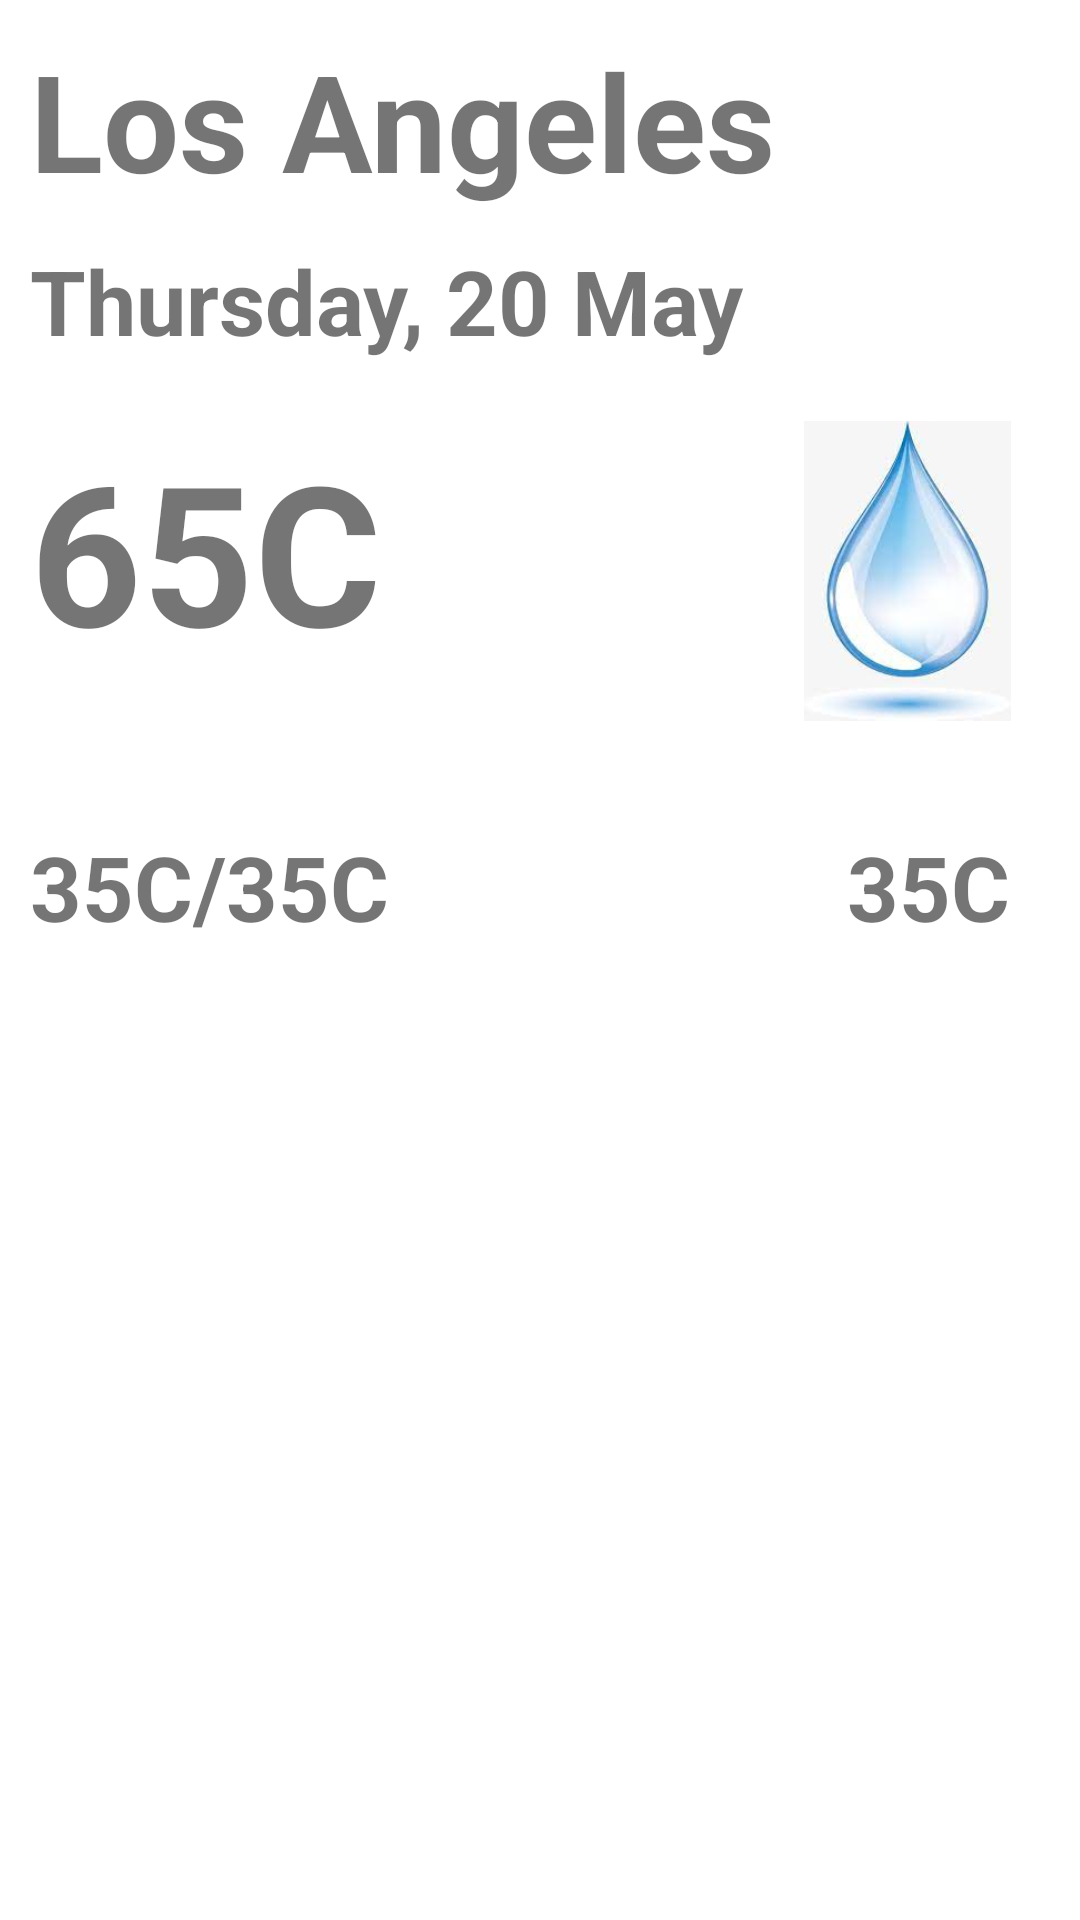

Point at icon controls on the screen. Image size 1080px x 1920px, points as point (x, y).
waterdrop: point (907, 571)
